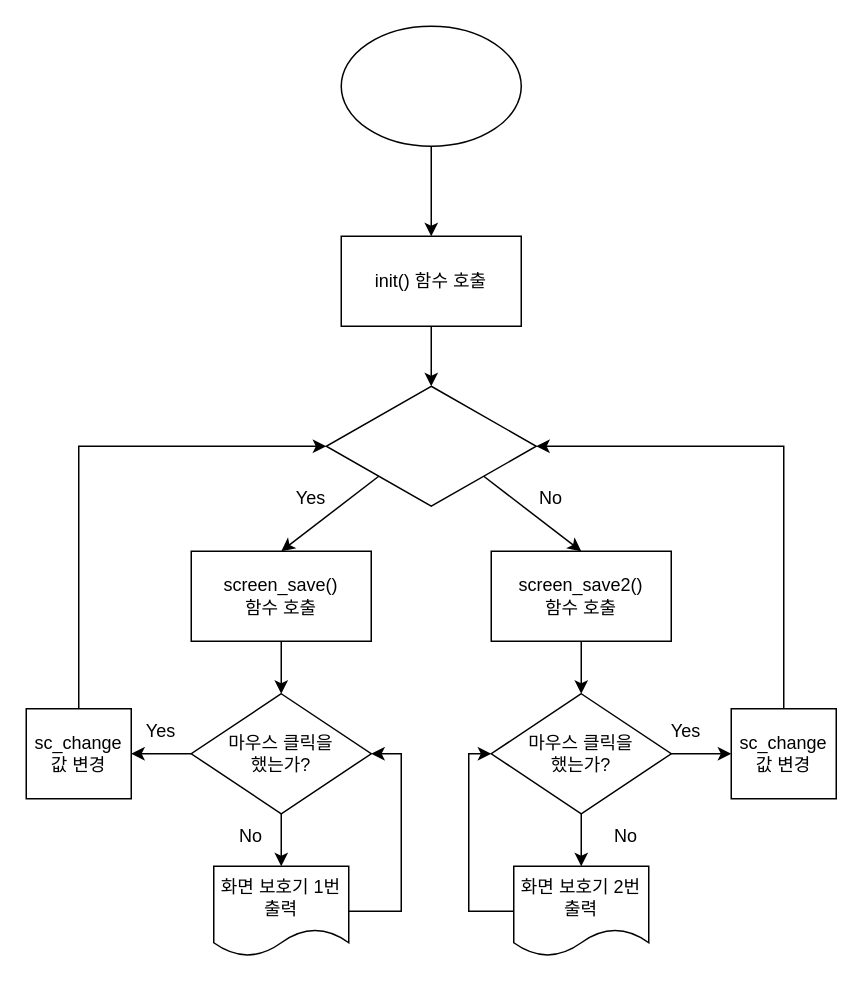
The diagram is 863 pixels wide and 983 high, and some of its shapes have lost their labels. The centre of each missing label's shape, as x and y in pixels:
sc_change 값이 0인가?: point (430, 445)
시작: point (430, 85)
